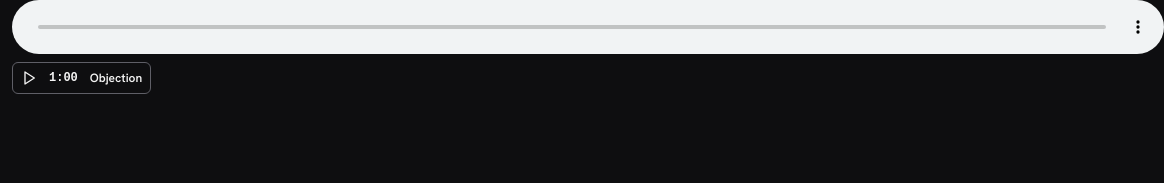
Test: private recording playback › catches browser playback rejection and offers a direct user-gesture play button
This screenshot has width=1164, height=183.
Later steps or results of the test are not shown.
Click the button "1:00 Objection". click: click(82, 78)
box: [12, 62, 151, 94]
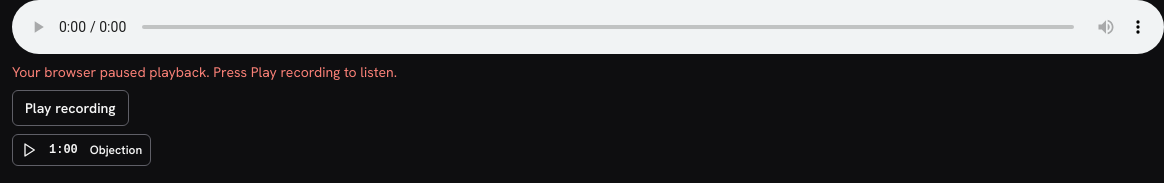
Check: the message shows "Your browser paused playback", box [12, 63, 397, 81]
